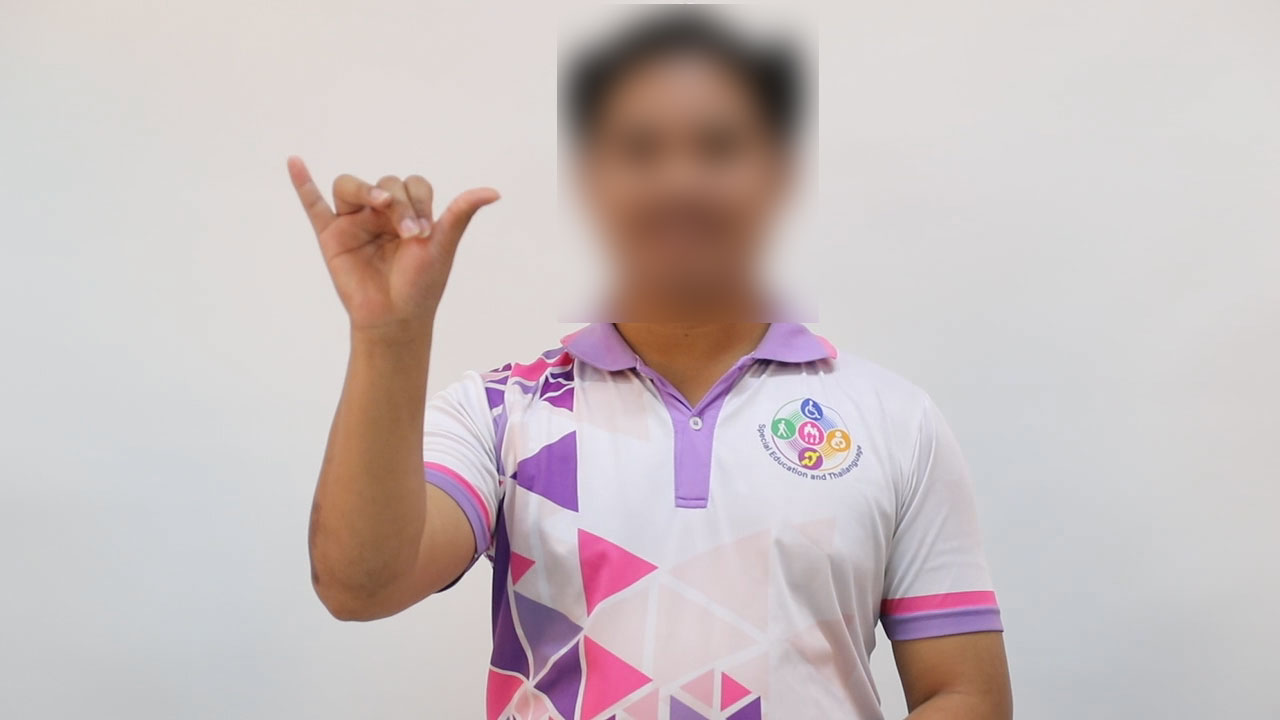yor: (268, 147, 508, 344)
